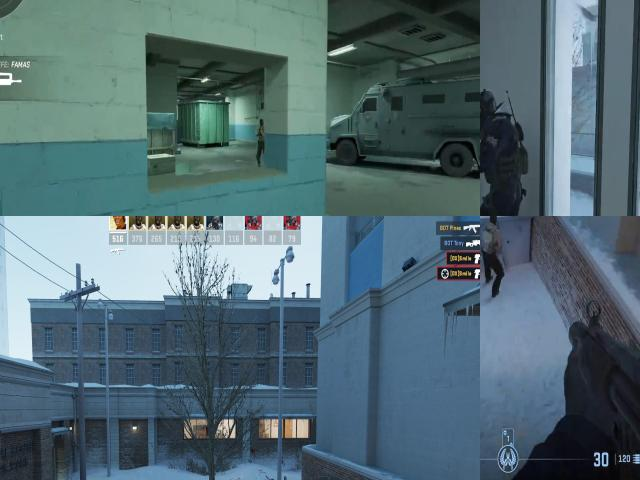CT: (480, 91, 528, 216)
CT-Head: (480, 83, 501, 132)
T: (480, 223, 504, 256), (254, 119, 266, 152)
T-Head: (488, 216, 500, 232), (257, 117, 264, 132)
